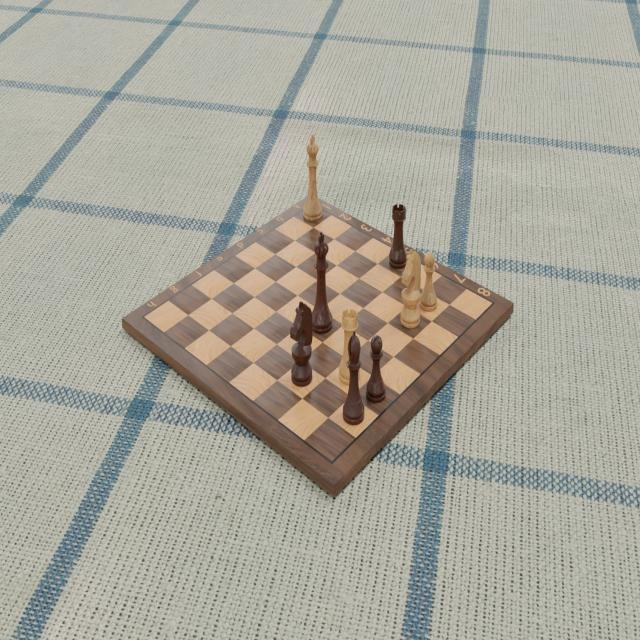black-bishop: (342, 329, 365, 427)
black-king: (310, 230, 333, 334)
black-knight: (290, 300, 314, 387)
black-pawn: (365, 332, 386, 403)
black-rook: (388, 202, 408, 270)
white-king: (302, 133, 323, 223)
white-knight: (400, 248, 422, 330)
white-pawn: (418, 251, 438, 313)
white-rook: (338, 308, 361, 386)
